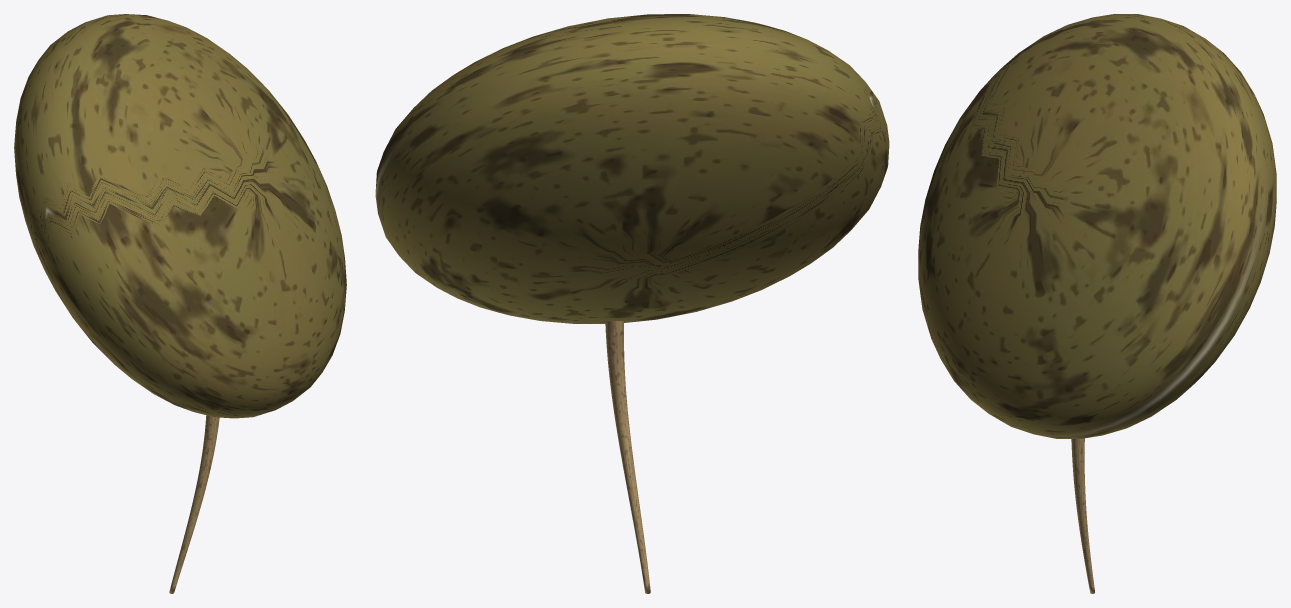
The model's file is lentil.glb.
The picture shows the model from 3 angles, left to right: view 1: azimuth 30°, elevation 25°; view 2: azimuth 150°, elevation 25°; view 3: azimuth 270°, elevation 25°; orthographic projection. The views are drawn at different scales.
Parts seen in each view (by area): view 1: Seed_Lentil, Taproot_Main; view 2: Seed_Lentil, Taproot_Main; view 3: Seed_Lentil, Taproot_Main.
Boxes of the visible parts, bbox=[...] form: Seed_Lentil: bbox=[14, 14, 346, 418]; Taproot_Main: bbox=[169, 415, 219, 593]; Seed_Lentil: bbox=[375, 14, 889, 323]; Taproot_Main: bbox=[605, 320, 650, 593]; Seed_Lentil: bbox=[918, 14, 1276, 438]; Taproot_Main: bbox=[1071, 438, 1094, 593].
Bounding box in the file's own units: 0.1008 × 0.1466 × 0.0881.
9 materials, 9 textured.
